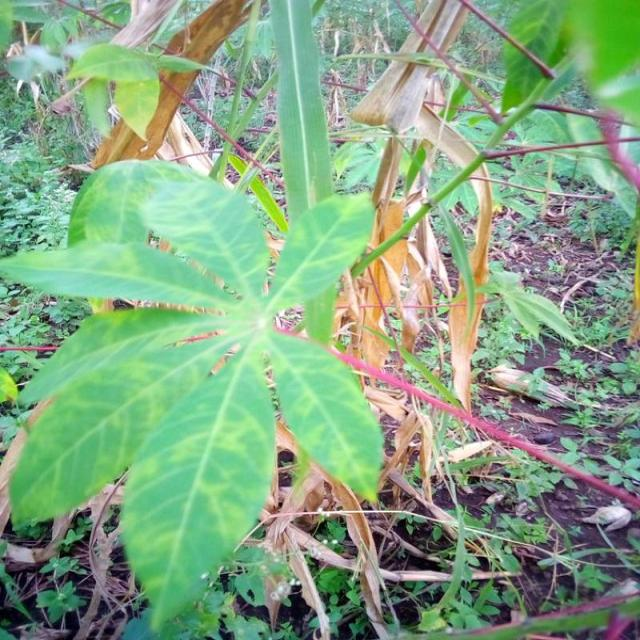cassava leaf: (2, 155, 386, 632), (118, 337, 276, 633)
